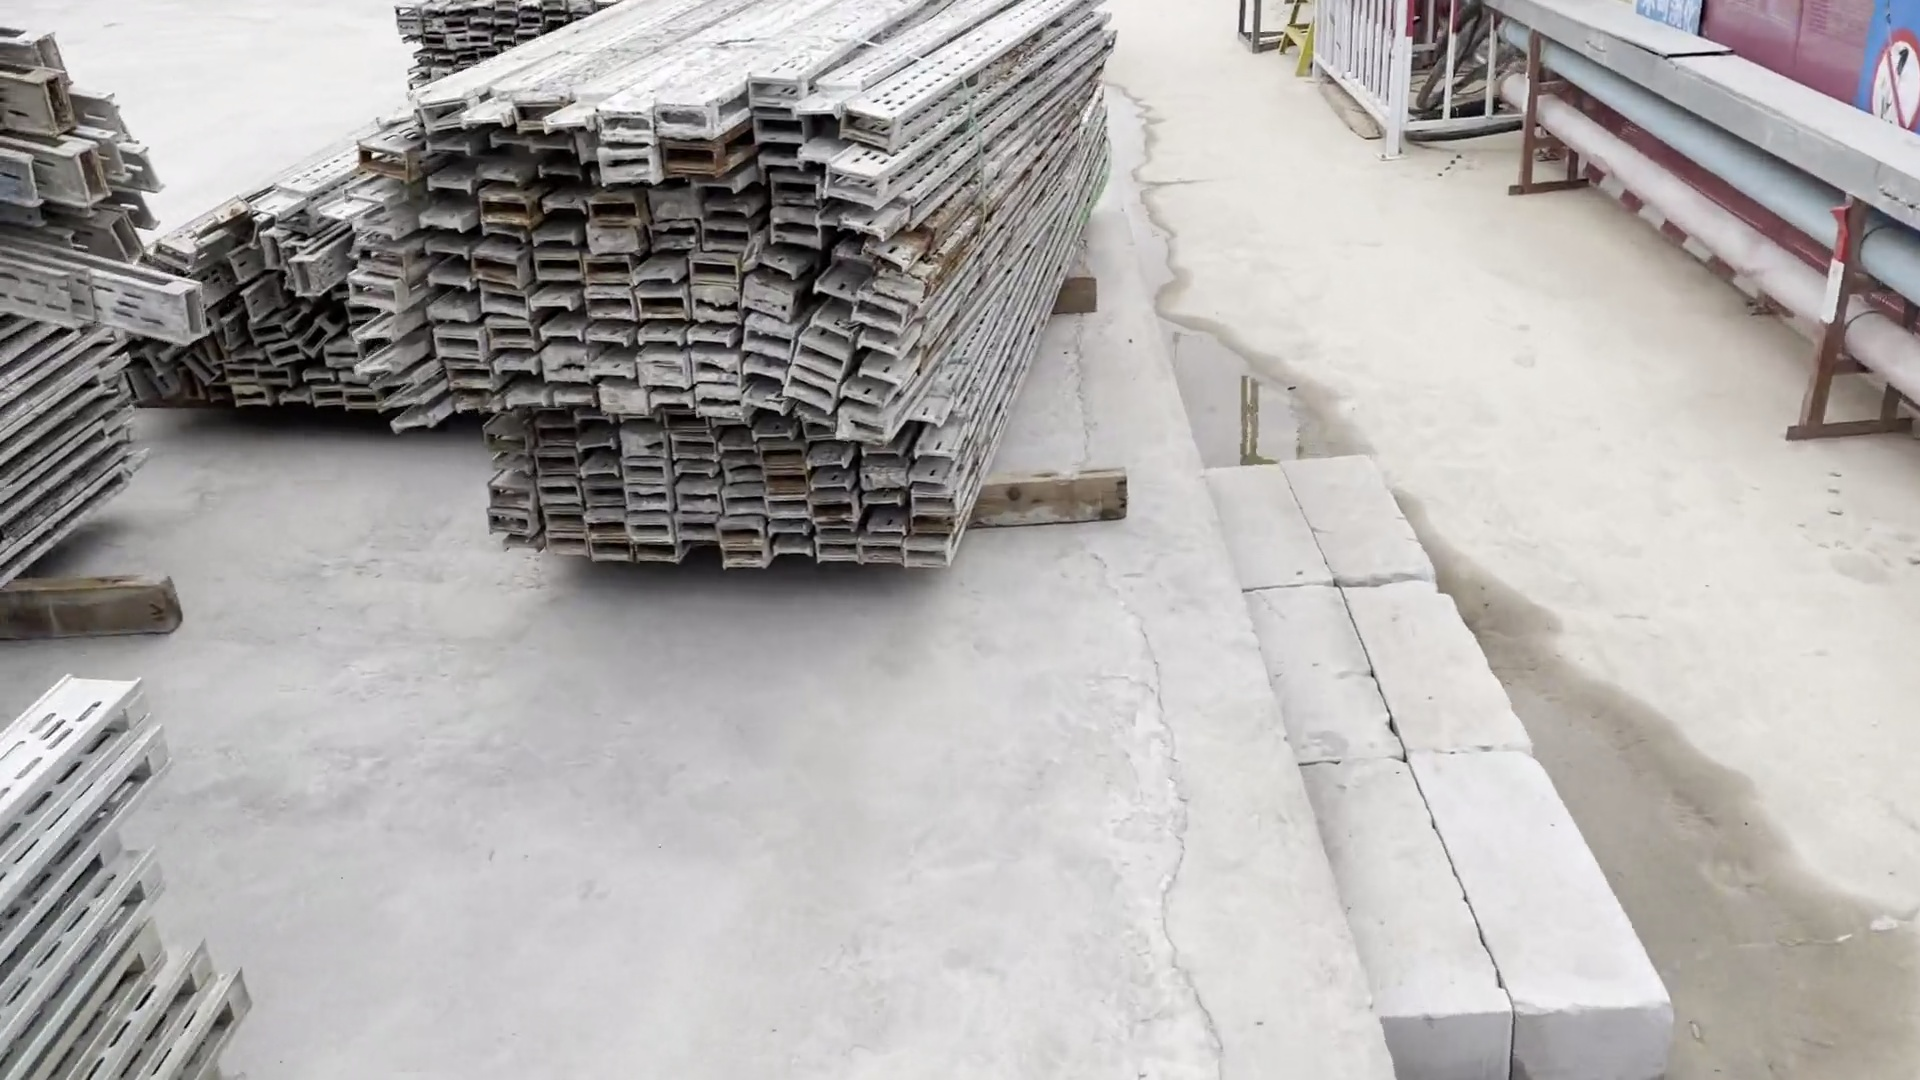brick: (1215, 451, 1689, 1080)
fence: (1614, 1, 1920, 142)
slogan: (1846, 5, 1920, 146), (1600, 4, 1742, 58)
